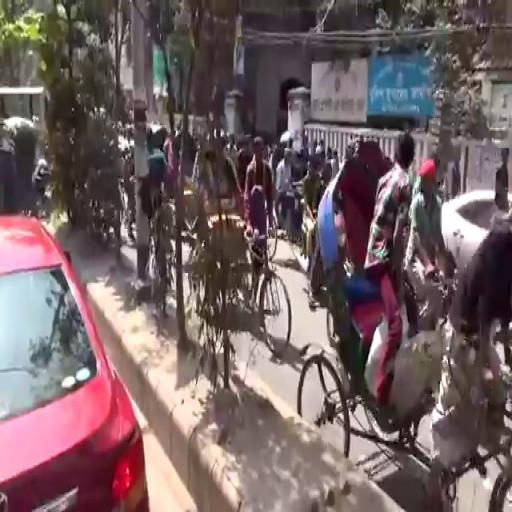car: (2, 209, 152, 510), (438, 184, 512, 277)
rickshaw: (296, 153, 512, 506), (187, 138, 293, 358)
